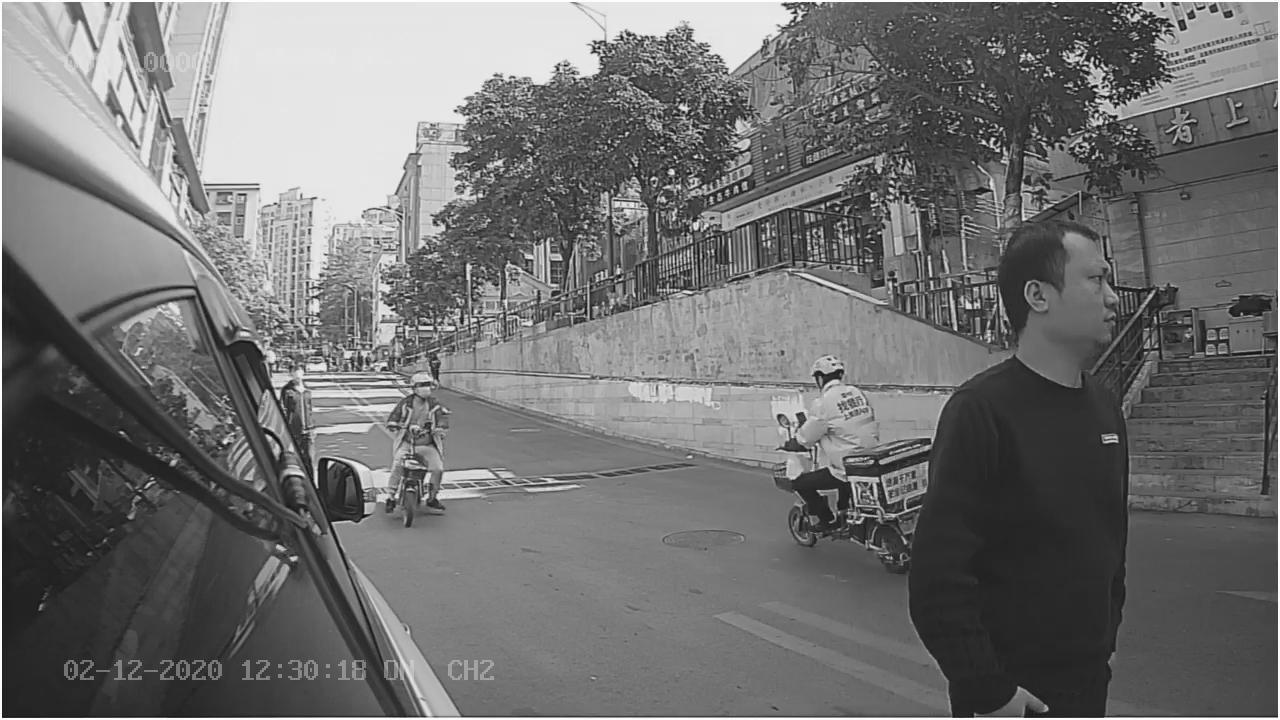person: (915, 211, 1140, 574)
